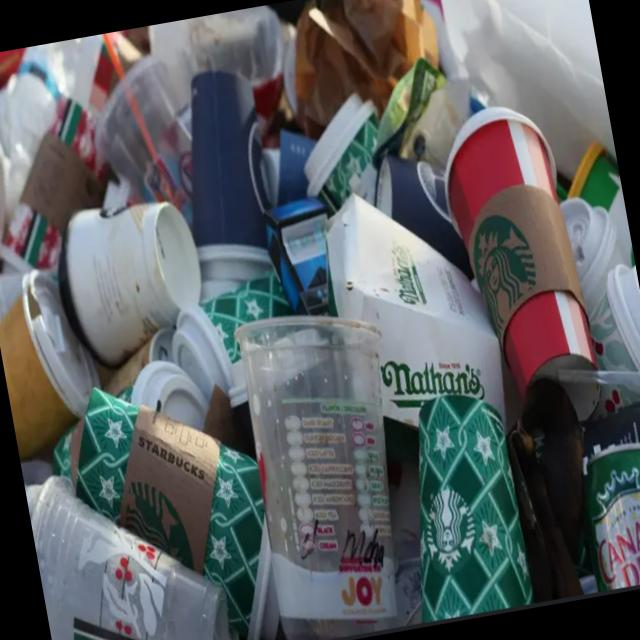GelasPlastik: (421, 78, 620, 436), (225, 289, 425, 640), (23, 444, 235, 640), (42, 182, 212, 358), (168, 54, 286, 282)
